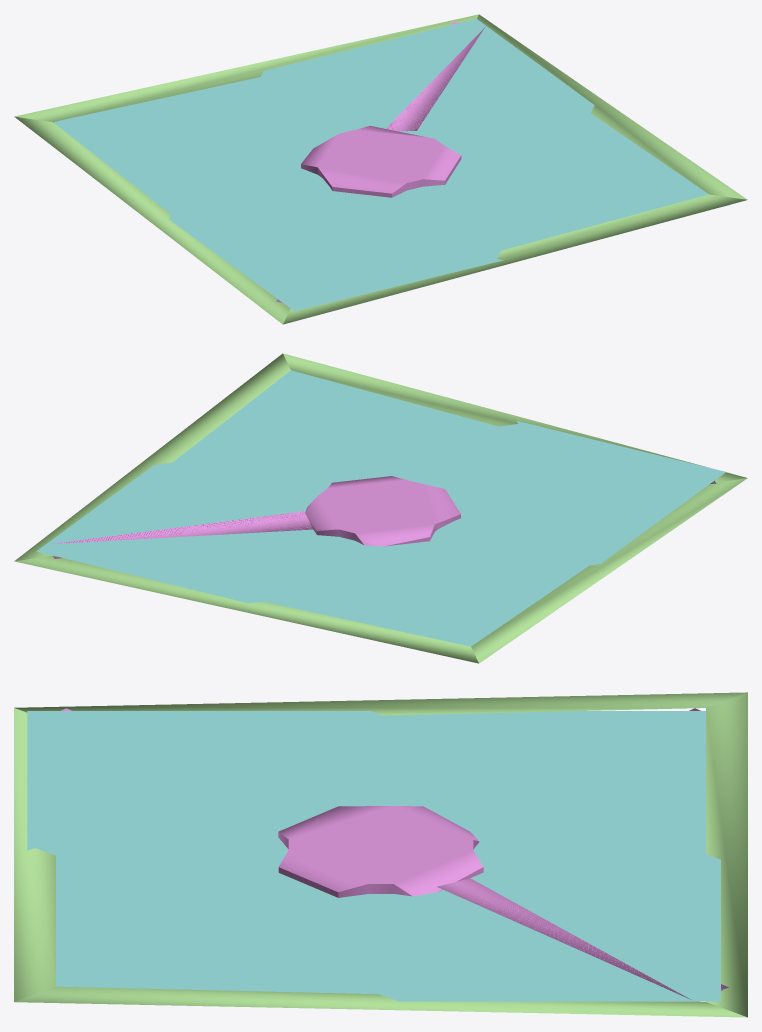
File: sub_Ironplatefloor_LOD1.fbx
3 views of the same model, one above another, from view 1: azimuth 30°, elevation 25°; view 2: azimuth 150°, elevation 25°; view 3: azimuth 270°, elevation 25° (orthographic). The views are drawn at different scales.
Parts seen in each view (by area): view 1: sub_Ironplatefloor_LOD1; view 2: sub_Ironplatefloor_LOD1; view 3: sub_Ironplatefloor_LOD1.
Boxes of the visible parts, box(x1,y1,x2,y2) form: sub_Ironplatefloor_LOD1: box(14, 14, 747, 324); sub_Ironplatefloor_LOD1: box(14, 353, 747, 663); sub_Ironplatefloor_LOD1: box(14, 692, 747, 1017).
Size of the model in its own units: 8.26 by 0.2509 by 8.27.
